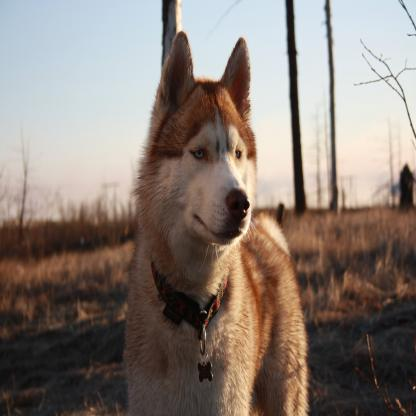husky: (125, 33, 308, 416)
